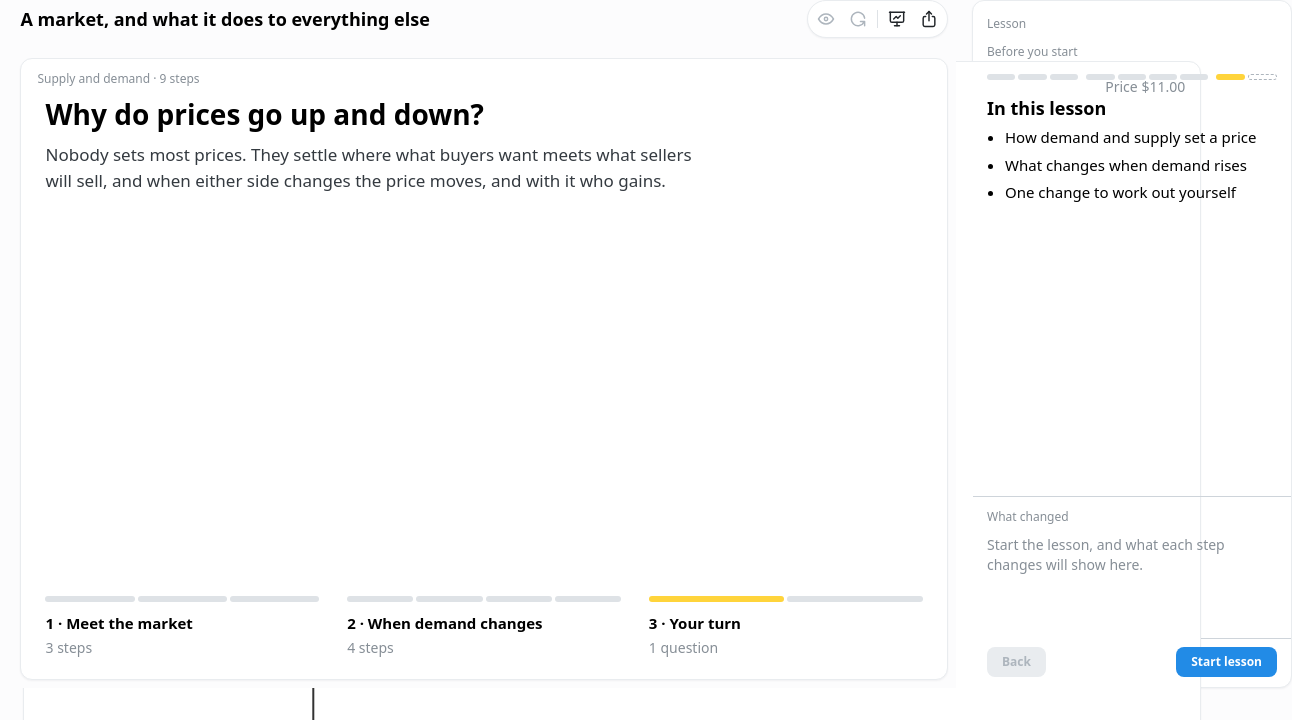
Test: the lesson speaks on its card, and "What changed" reports the numbers › reports the step's own move in "What changed", under the step's words
What coordinates should you click on to do the following:
click the button named "Step 5 of 9: Incomes rise"
I would click on:
 (1132, 77)
Its box is [1118,67,1146,87].
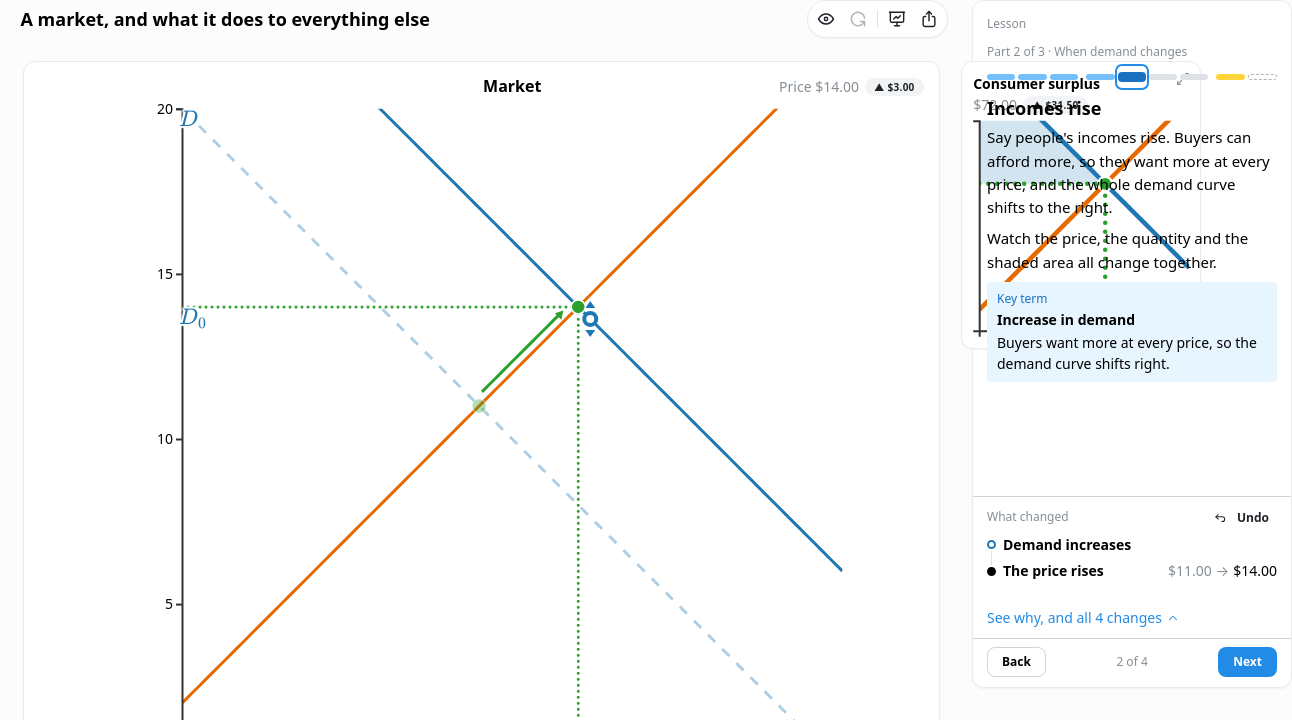
Check: the element that starts with "Incomes rise" is shown, box [987,96,1101,120]
